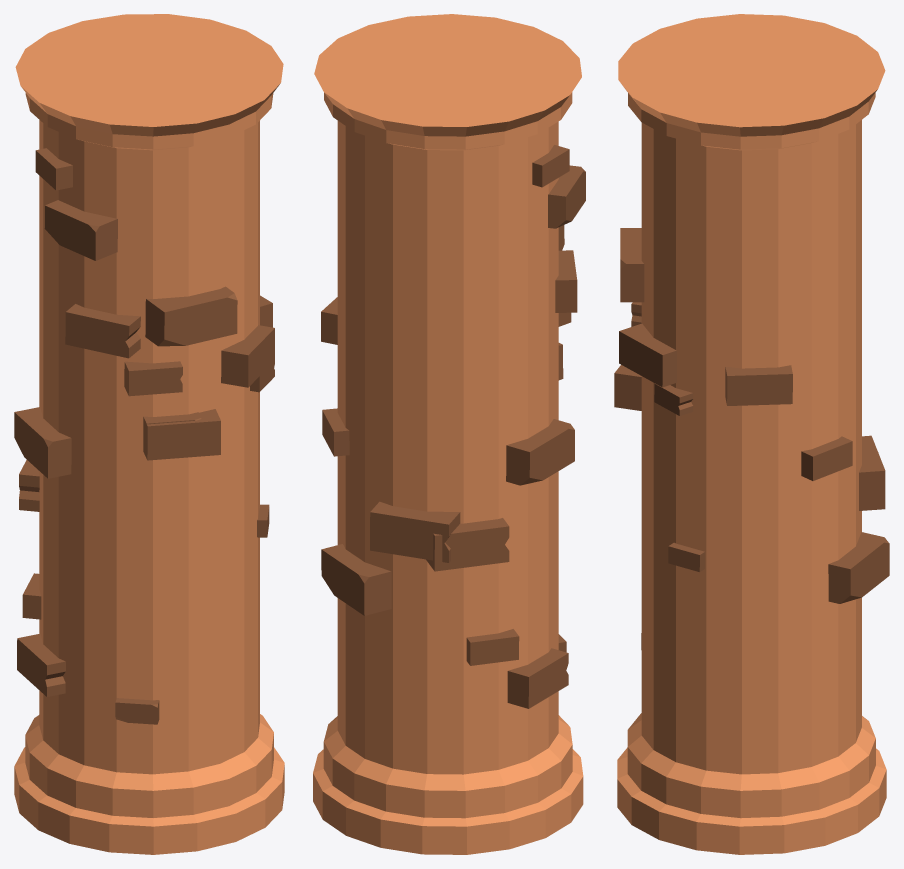
File: Column.fbx
3 renders of one model, left to right at view 1: azimuth 30°, elevation 25°; view 2: azimuth 150°, elevation 25°; view 3: azimuth 270°, elevation 25°, orthographic.
Parts seen in each view (by area): view 1: Collumn, Collumn|Cube.004|Dupli|5, Collumn|Cube.003|Dupli|13, Collumn|Cube.004|Dupli|14, Collumn|Cube.002|Dupli|9, Collumn|Cube.004|Dupli|17, Collumn|Cube.002|Dupli|, Collumn|Cube.003|Dupli|16, Collumn|Cube.003|Dupli|7, Collumn|Cube.002|Dupli|18, Collumn|Cube.004|Dupli|11, Collumn|Cube.003|Dupli|4 (+2 smaller); view 2: Collumn, Collumn|Cube.003|Dupli|10, Collumn|Cube.004|Dupli|2, Collumn|Cube.004|Dupli|17, Collumn|Cube.003|Dupli|4, Collumn|Cube.003|Dupli|16, Collumn|Cube.004|Dupli|14, Collumn|Cube.002|Dupli|3, Collumn|Cube.003|Dupli|13, Collumn|Cube.002|Dupli|18, Collumn|Cube.002|Dupli|6, Collumn|Cube.002|Dupli|12; view 3: Collumn, Collumn|Cube.004|Dupli|2, Collumn|Cube.002|Dupli|12, Collumn|Cube.002|Dupli|, Collumn|Cube.004|Dupli|5, Collumn|Cube.003|Dupli|10, Collumn|Cube.002|Dupli|6, Collumn|Cube.002|Dupli|9, Collumn|Cube.003|Dupli|1, Collumn|Cube.002|Dupli|15.
Part boxes in pixels (x1,y1,x2,y2): Collumn: [14, 14, 284, 854]; Collumn|Cube.004|Dupli|5: [145, 286, 237, 346]; Collumn|Cube.003|Dupli|13: [65, 304, 140, 358]; Collumn|Cube.004|Dupli|14: [44, 200, 117, 260]; Collumn|Cube.002|Dupli|9: [143, 409, 220, 460]; Collumn|Cube.004|Dupli|17: [14, 407, 71, 478]; Collumn|Cube.002|Dupli|: [221, 325, 274, 387]; Collumn|Cube.003|Dupli|16: [17, 633, 65, 696]; Collumn|Cube.003|Dupli|7: [124, 361, 182, 396]; Collumn|Cube.002|Dupli|18: [35, 148, 72, 190]; Collumn|Cube.004|Dupli|11: [115, 698, 159, 724]; Collumn|Cube.003|Dupli|4: [19, 460, 39, 511]; Collumn: [313, 14, 583, 854]; Collumn|Cube.003|Dupli|10: [370, 501, 460, 562]; Collumn|Cube.004|Dupli|2: [321, 544, 391, 615]; Collumn|Cube.004|Dupli|17: [506, 419, 574, 485]; Collumn|Cube.003|Dupli|4: [426, 518, 509, 571]; Collumn|Cube.003|Dupli|16: [507, 648, 568, 708]; Collumn|Cube.004|Dupli|14: [548, 165, 585, 228]; Collumn|Cube.002|Dupli|3: [466, 629, 519, 665]; Collumn|Cube.003|Dupli|13: [555, 250, 577, 312]; Collumn|Cube.002|Dupli|18: [532, 145, 569, 187]; Collumn|Cube.002|Dupli|6: [322, 408, 349, 456]; Collumn|Cube.002|Dupli|12: [321, 297, 337, 344]; Collumn: [617, 14, 886, 854]; Collumn|Cube.004|Dupli|2: [828, 532, 889, 603]; Collumn|Cube.002|Dupli|12: [725, 365, 792, 405]; Collumn|Cube.002|Dupli|: [619, 323, 676, 387]; Collumn|Cube.004|Dupli|5: [620, 228, 644, 302]; Collumn|Cube.003|Dupli|10: [859, 435, 885, 510]; Collumn|Cube.002|Dupli|6: [801, 436, 852, 480]; Collumn|Cube.002|Dupli|9: [614, 365, 641, 410]; Collumn|Cube.003|Dupli|1: [654, 383, 693, 415]; Collumn|Cube.002|Dupli|15: [668, 542, 704, 572].
Size of the model in its own units: 157 by 466 by 160.
